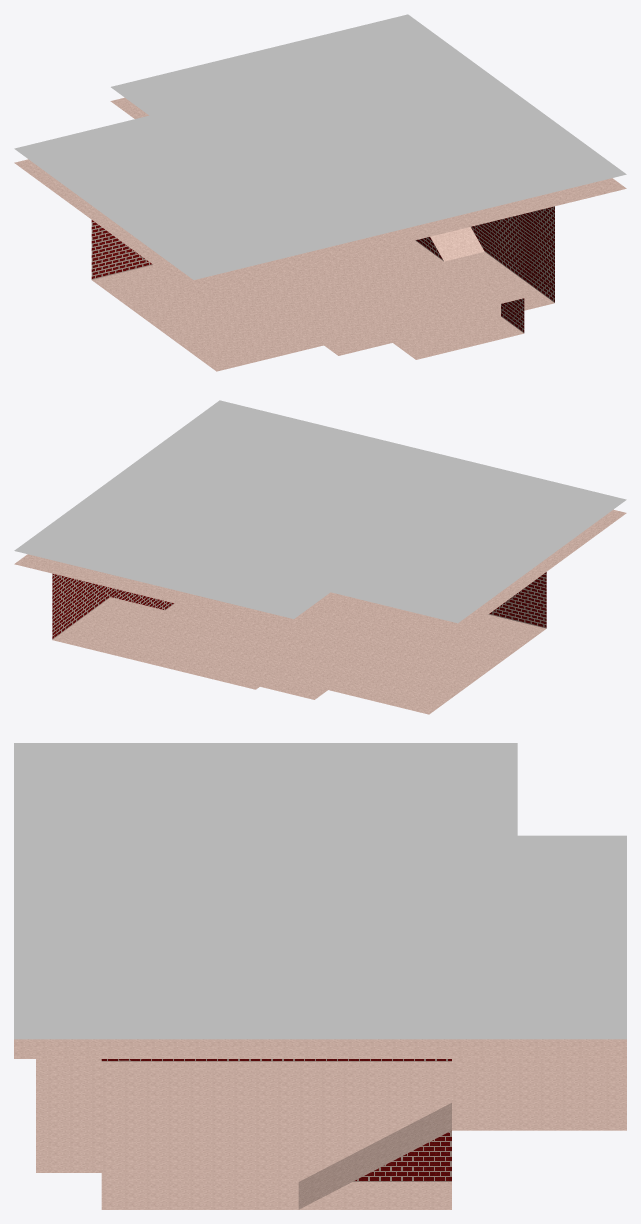
File: room1.obj
3 renders of one model, top to bottom at view 1: azimuth 30°, elevation 25°; view 2: azimuth 150°, elevation 25°; view 3: azimuth 270°, elevation 25°, orthographic. The views are drawn at different scales.
Visible parts, largest first — view 1: Plane.003; view 2: Plane.003; view 3: Plane.003.
Boxes of the visible parts, x1=… form: Plane.003: x1=14, y1=14, x2=626, y2=371; Plane.003: x1=14, y1=400, x2=626, y2=714; Plane.003: x1=14, y1=743, x2=626, y2=1209.
Size of the model in its own units: 32 by 10 by 28.
